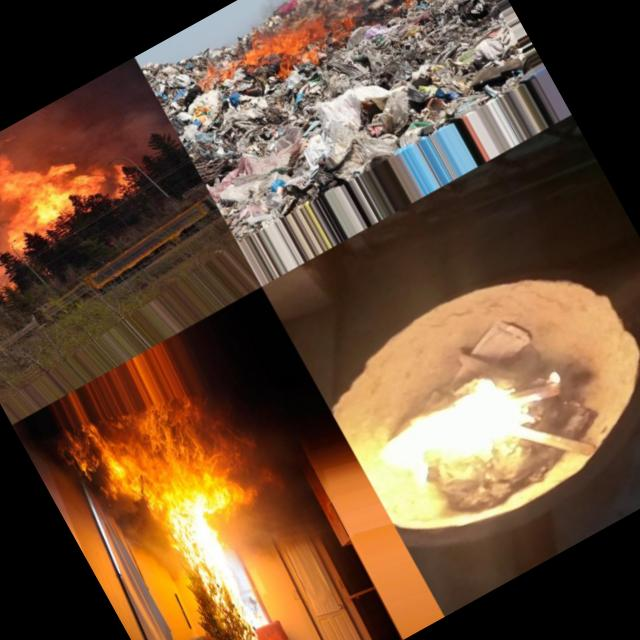fire: (352, 348, 572, 524), (112, 374, 284, 544), (0, 93, 139, 261), (172, 522, 283, 640), (237, 0, 372, 96), (61, 423, 146, 520), (193, 56, 240, 98), (184, 96, 221, 134), (397, 0, 443, 19)
smoke: (212, 472, 332, 576), (236, 0, 457, 42), (111, 497, 188, 592)
